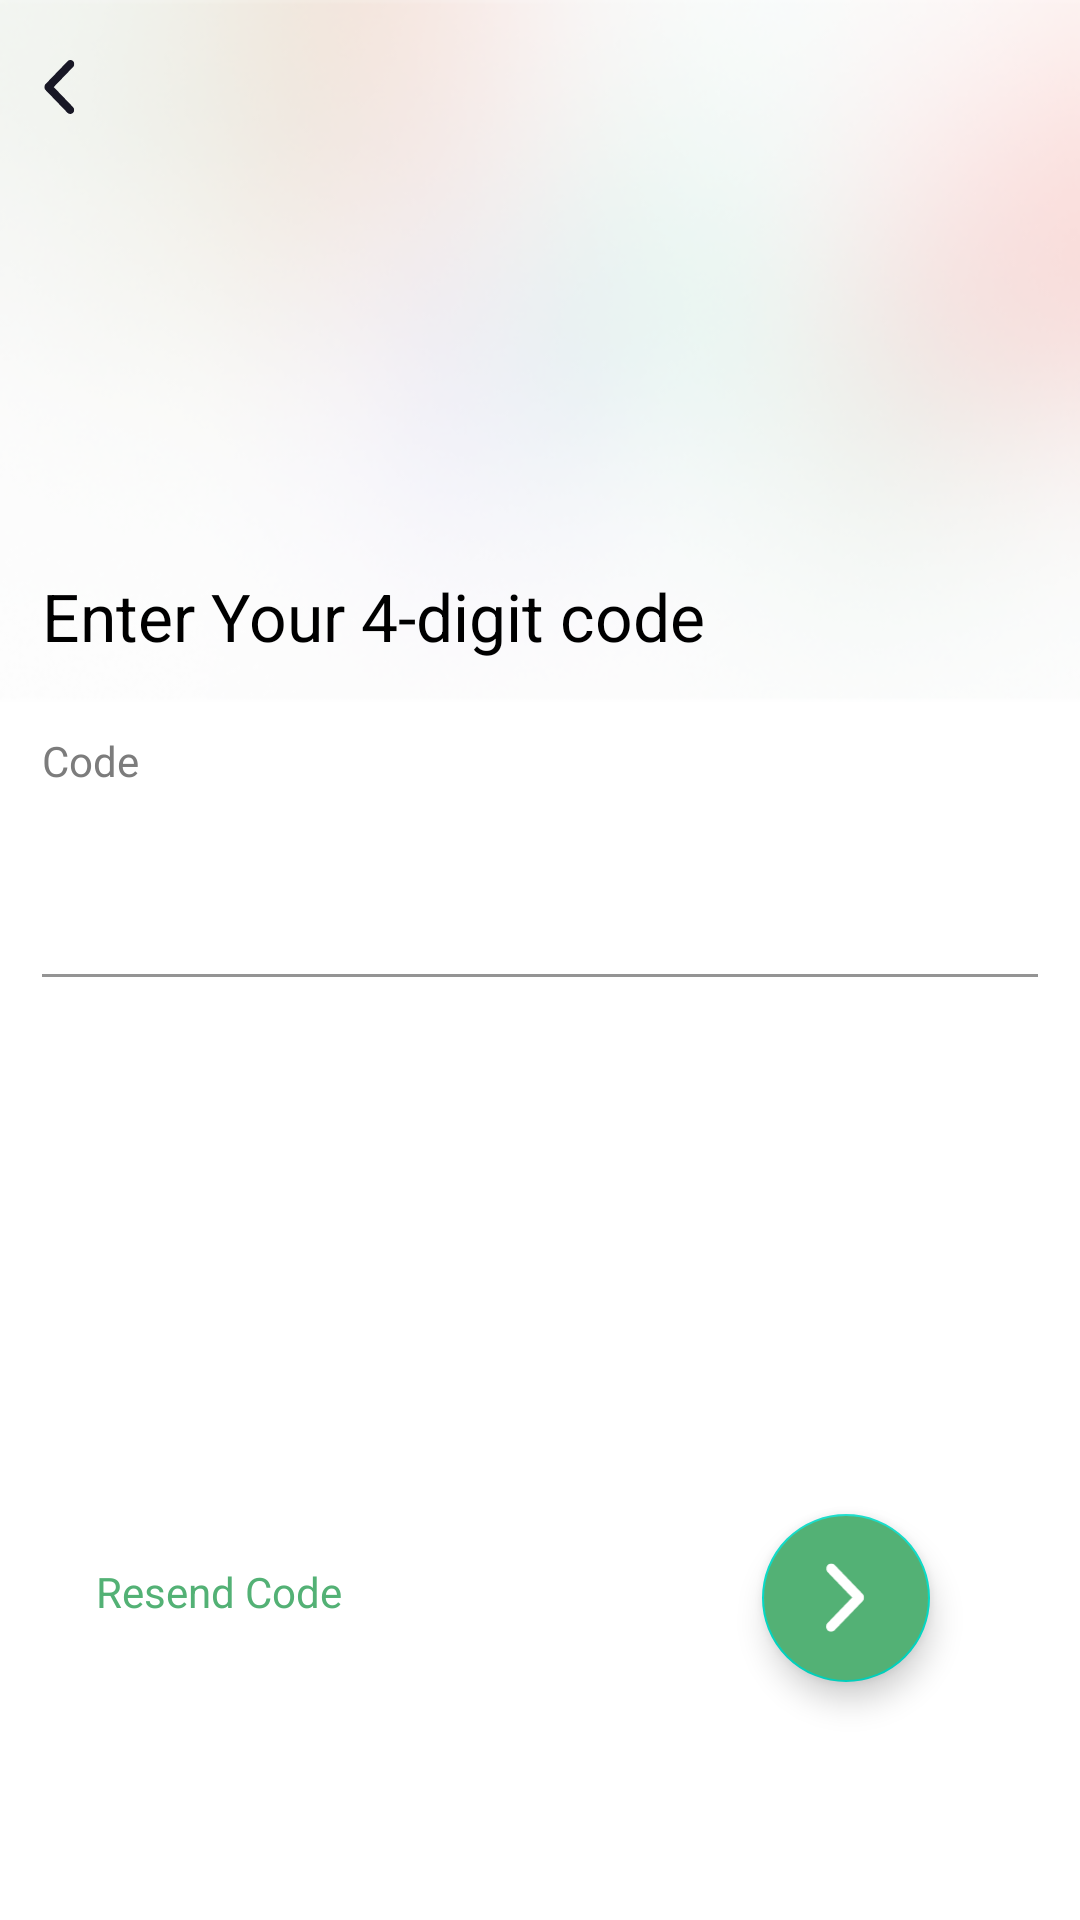

Where to tap for icons on this 1080 x 1920 app screen, as (x=x, y=y):
left: (x=59, y=87)
right: (x=847, y=1605)
